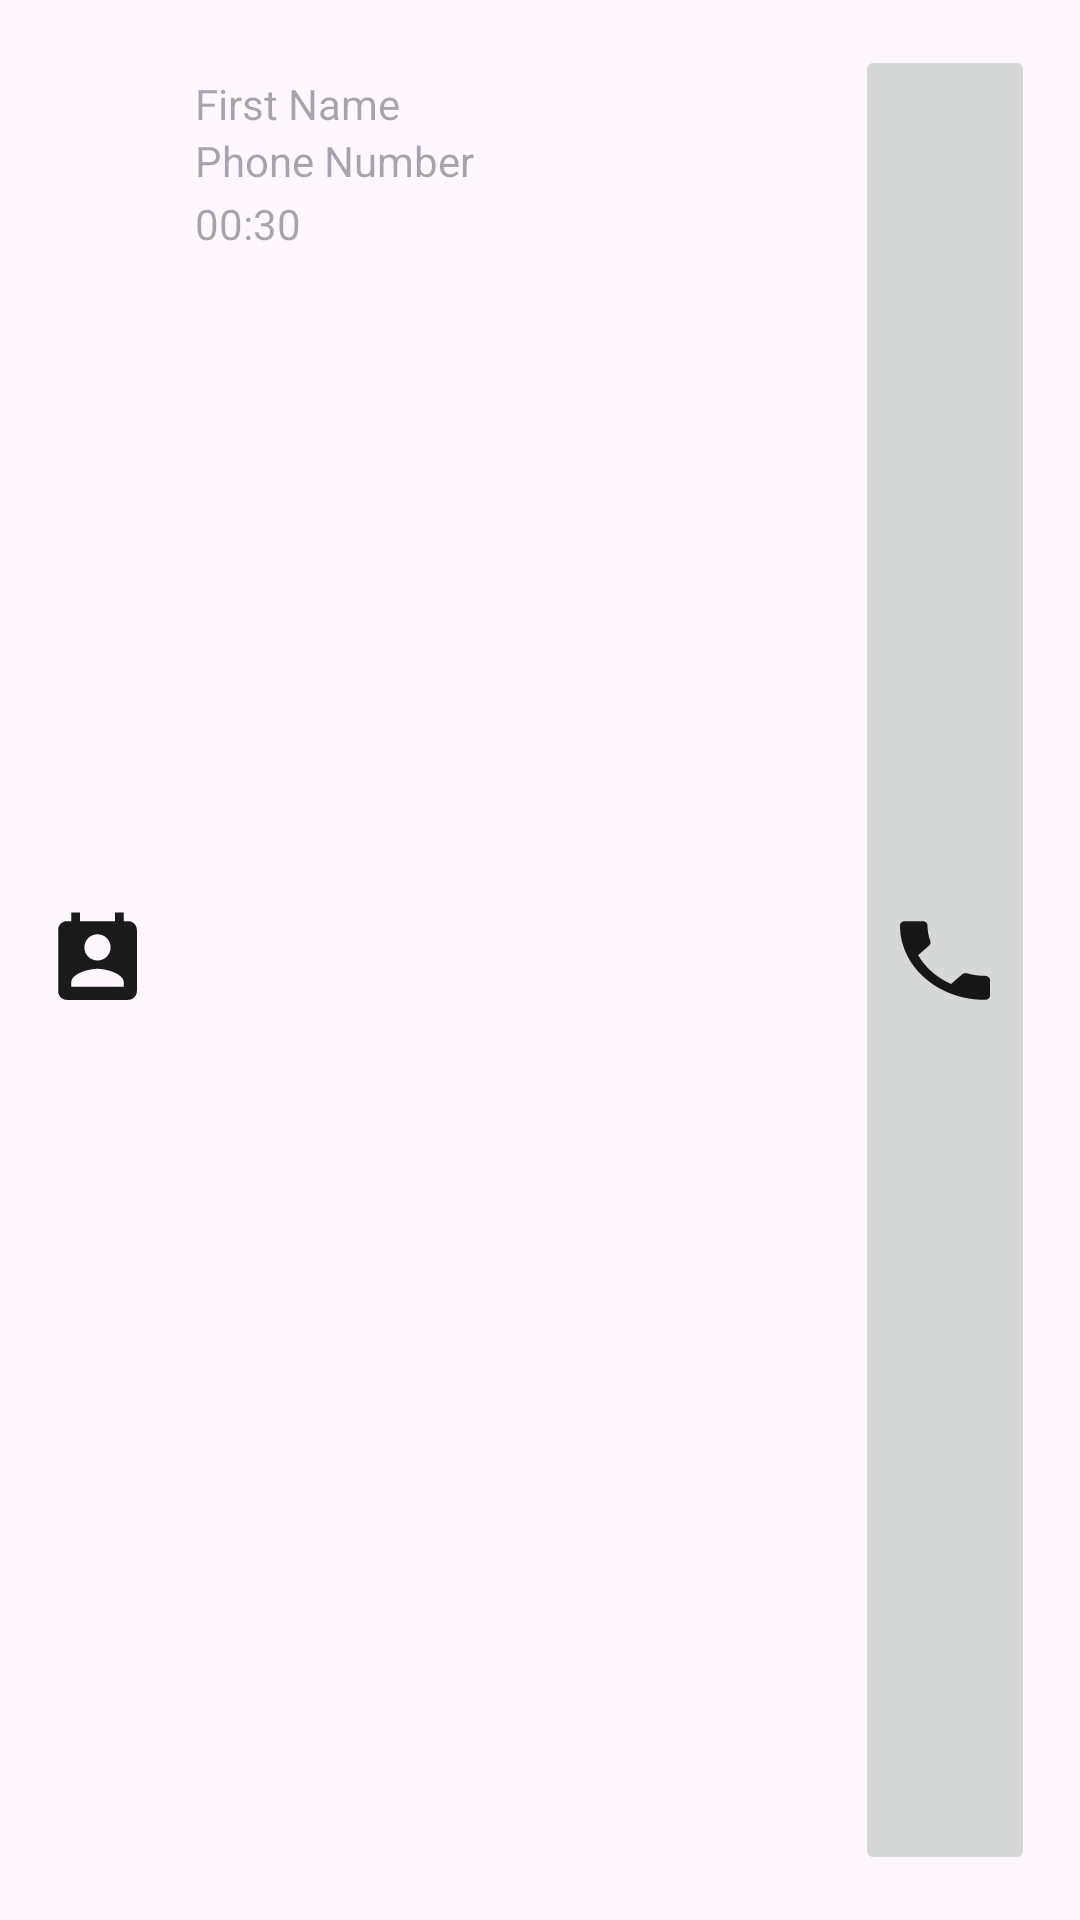

Named icons in this screenshot (1080 x 1920) and their centers, [x,y]:
contact: [97,956]
